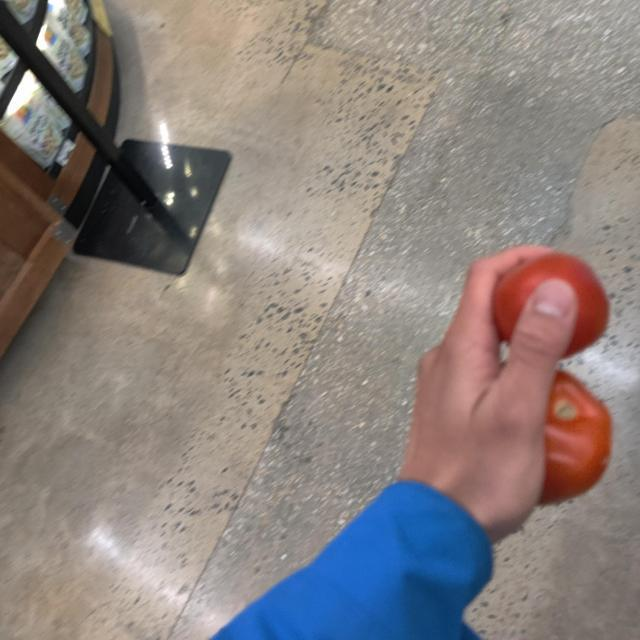Tomatoes: (485, 369, 618, 508), (467, 248, 620, 367)
